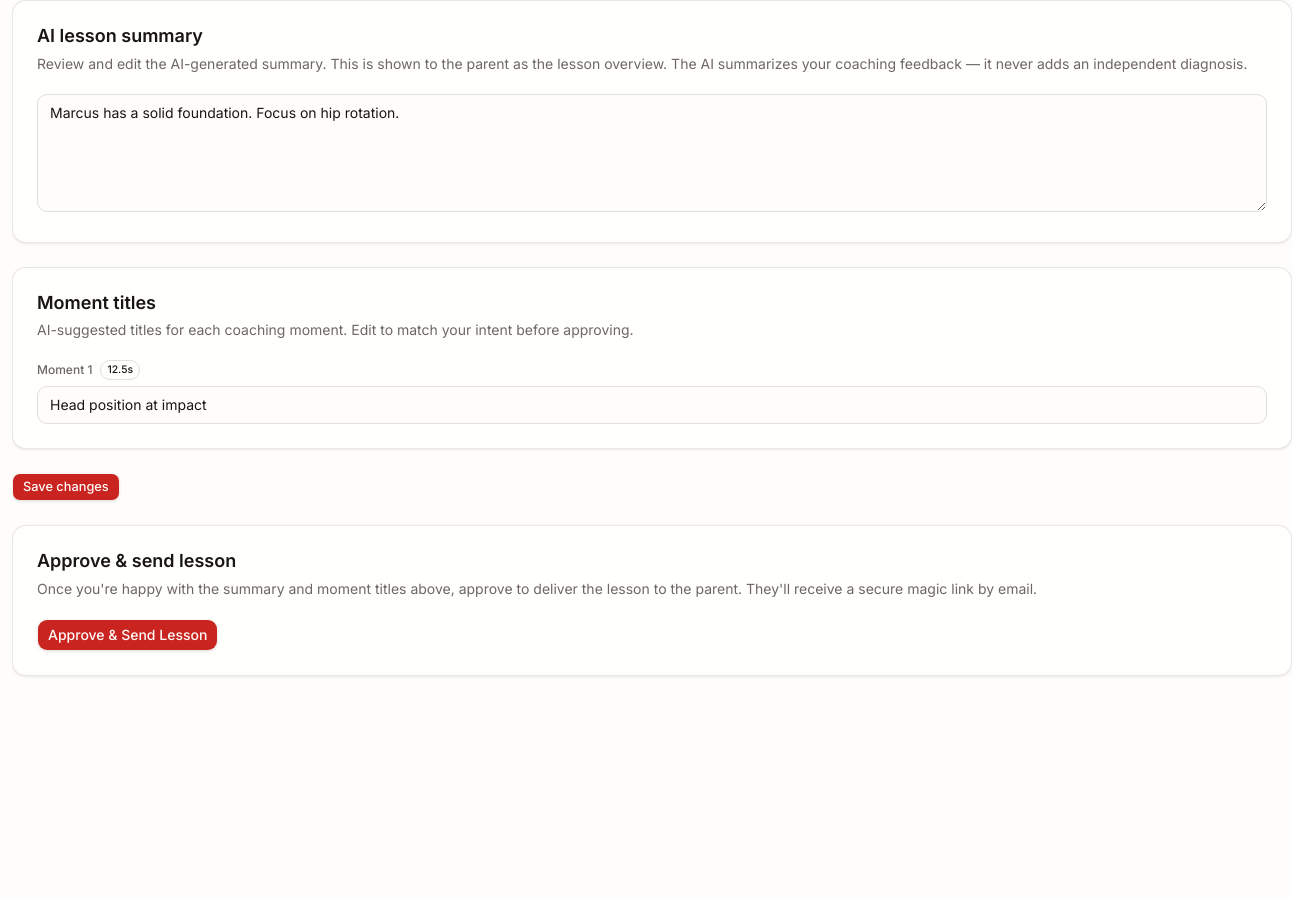
Test: AiReviewPanel — coach reviews/edits AI output (Wave 4 Sub-slice 3c-i) › shows an error message on fetch failure
Step 1. Click the button "Save changes" → coordinates (66, 487), box [12,473,120,501]
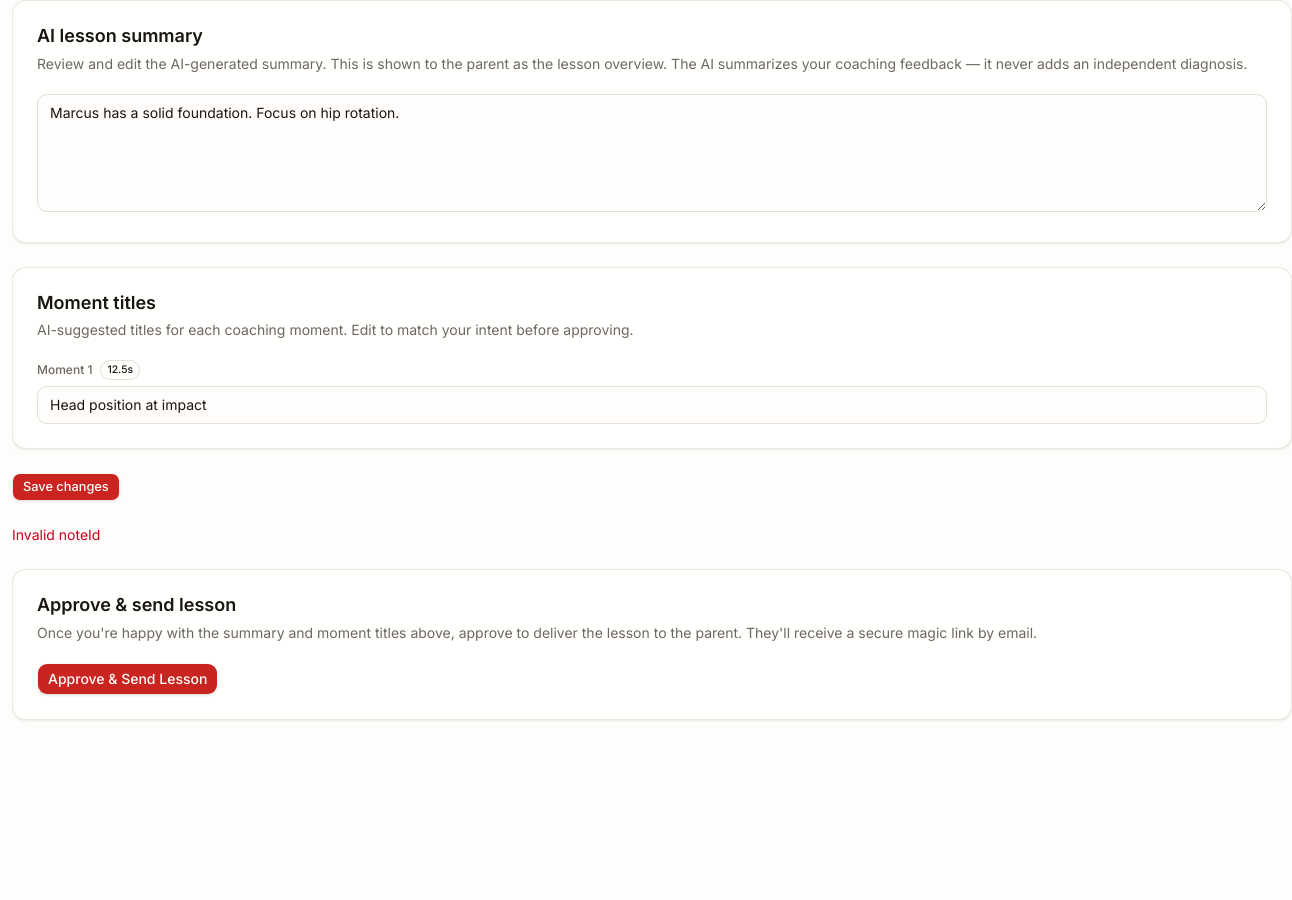
Expected: the message reads "Invalid noteId", [12,526,100,543]
